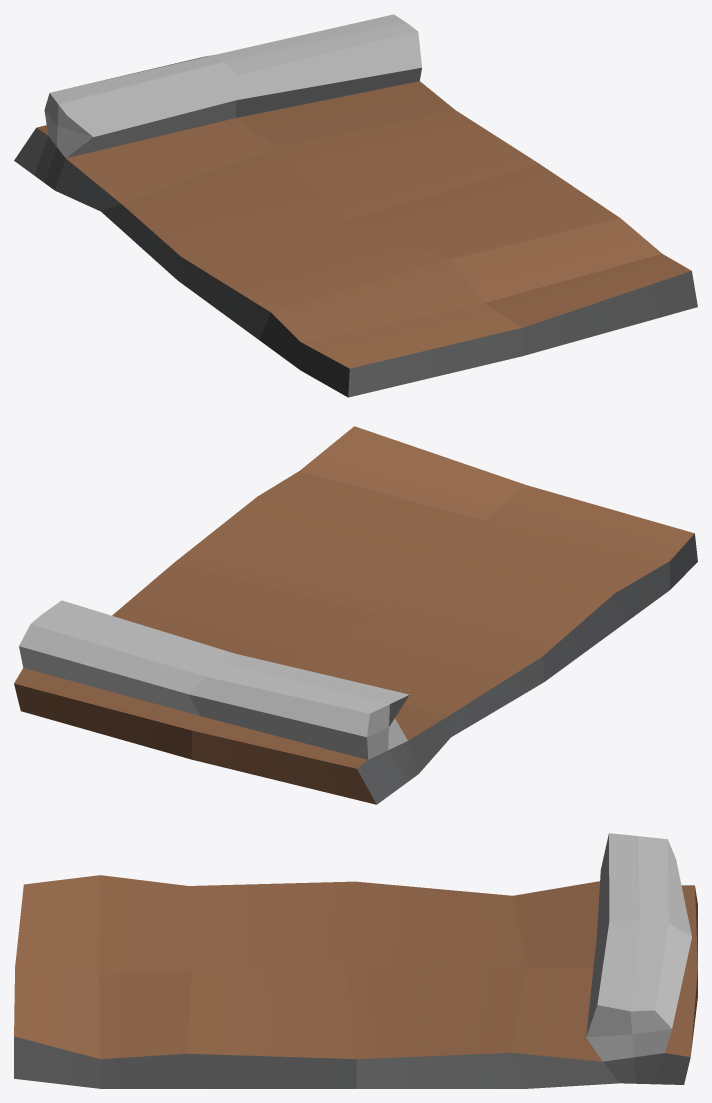
The model's file is sleeping_mat_1.glb.
3 views of the same model, one above another, from view 1: azimuth 30°, elevation 25°; view 2: azimuth 150°, elevation 25°; view 3: azimuth 270°, elevation 25° (orthographic). The views are drawn at different scales.
Parts seen in each view (by area): view 1: mat; view 2: mat; view 3: mat.
Boxes of the visible parts, bbox=[...] form: mat: bbox=[14, 14, 697, 397]; mat: bbox=[14, 426, 697, 804]; mat: bbox=[14, 833, 697, 1088].
Size of the model in its own units: 0.4843 by 0.1021 by 0.7599.
Materials: 1 (1 with a texture image).
